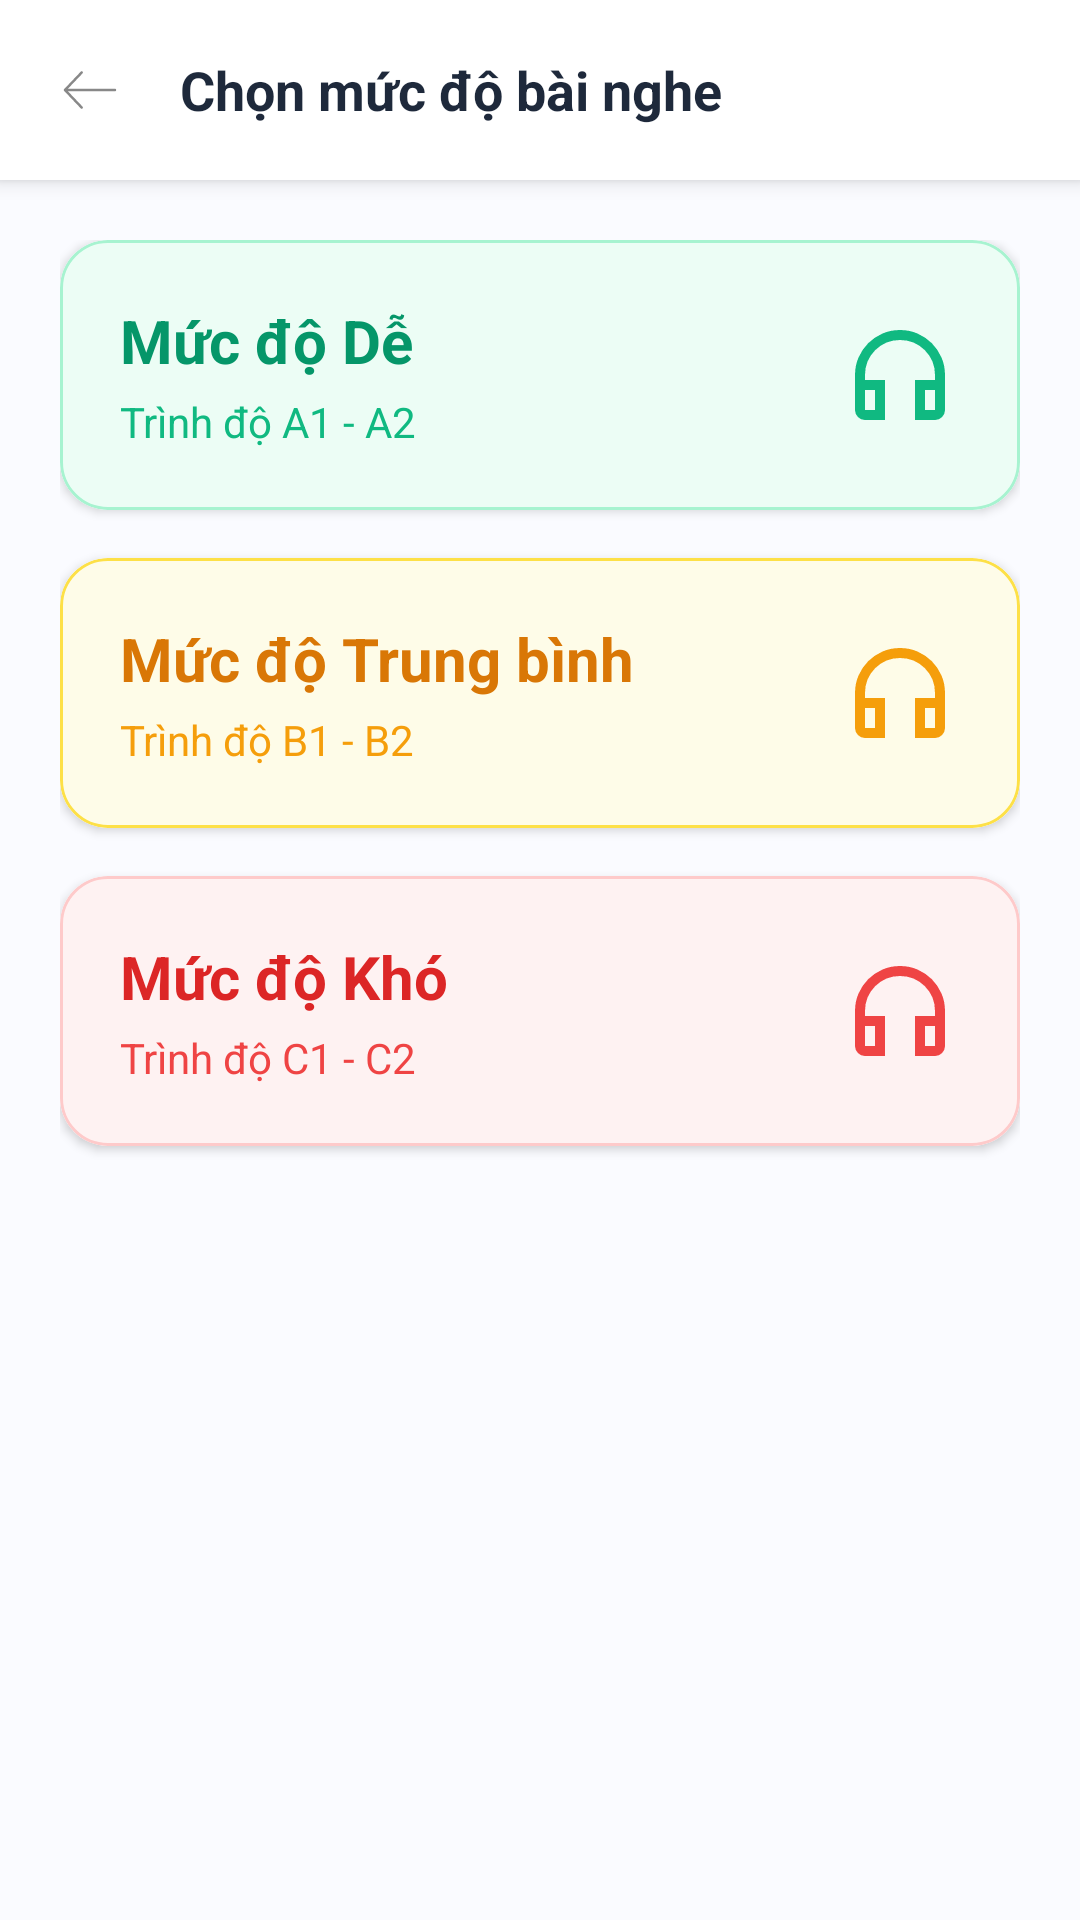

Icons on this 1080x1920 Android screen, each with the point to tap as point (x, y):
back: point (90, 90)
headphone: point (900, 375), point (900, 693), point (900, 1011)
